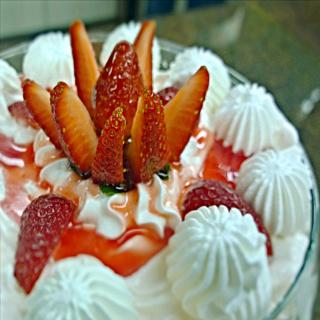Cake: (0, 18, 320, 320)
Strawberry: (178, 172, 270, 250), (13, 197, 80, 296), (93, 40, 144, 138), (163, 63, 210, 167), (50, 84, 97, 178), (128, 87, 170, 182), (20, 80, 61, 154), (69, 20, 99, 119), (95, 110, 125, 186), (132, 20, 157, 90)
